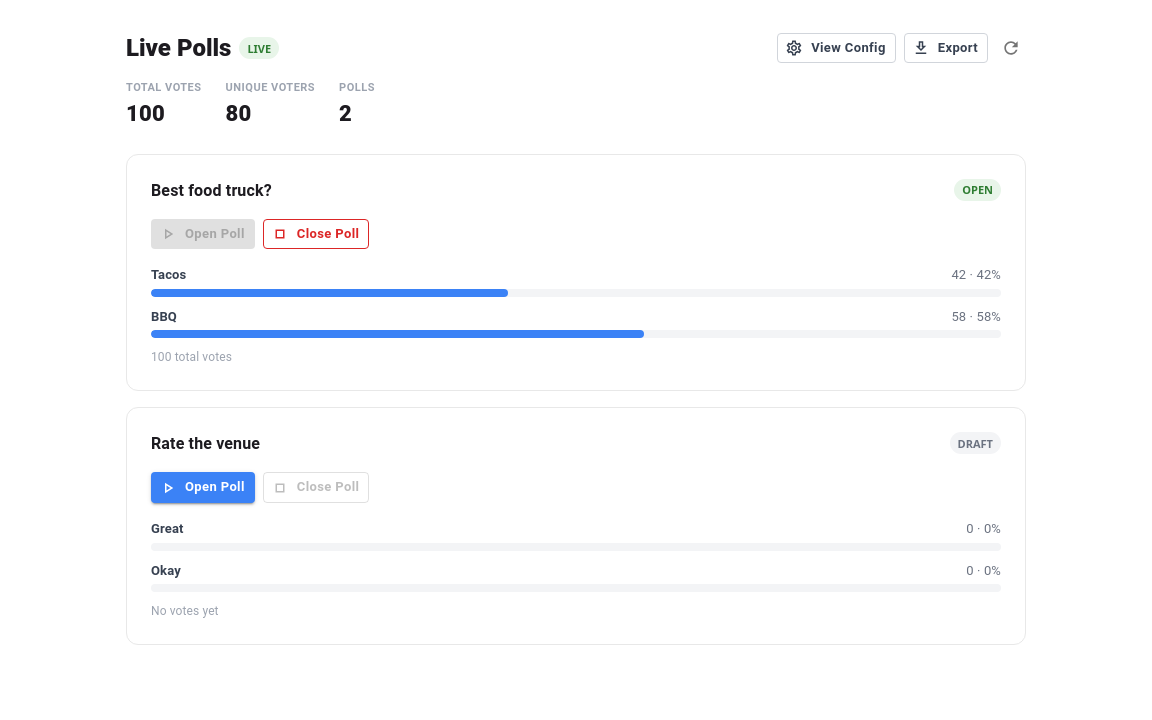
Test: LivePollLiveDashboard › closes an open poll and optimistically reflects the closed state
Check: the text "Best food truck?" is shown, box [151,180,272,200]
Click the button "Close Poll" below "Best food truck?": [316, 234] box [263,218,369,249]
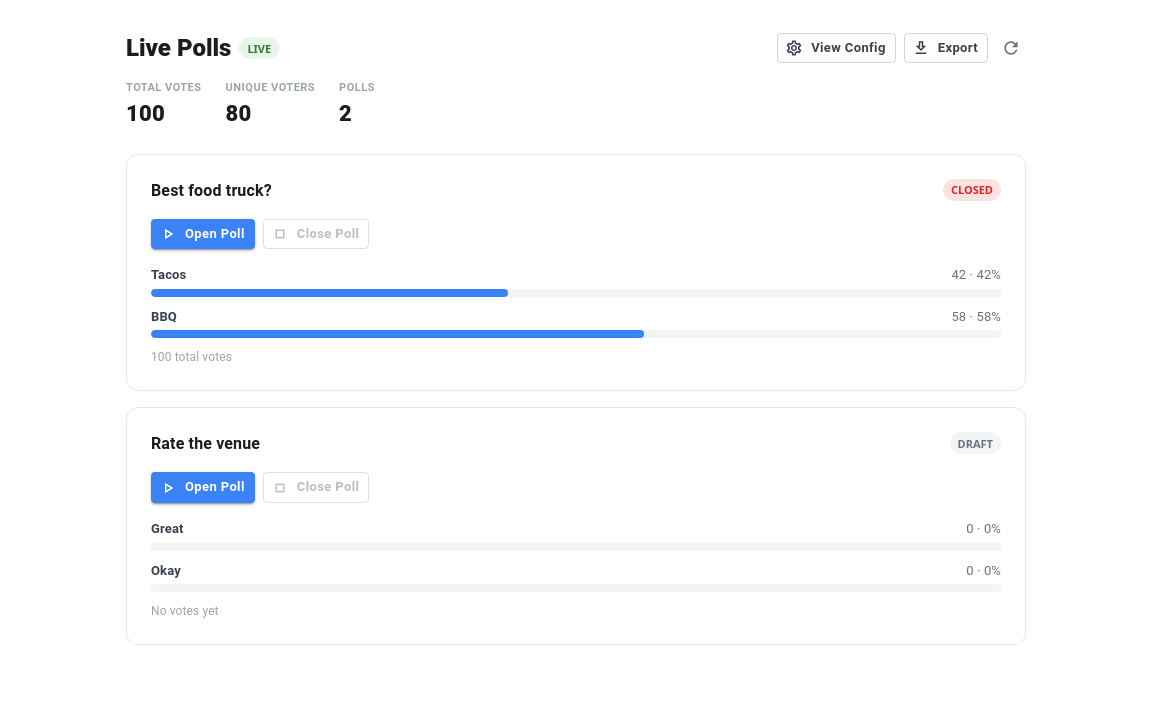
Check: the element with test id "poll-state-poll-1" reads "CLOSED", box [951,182,993,197]
